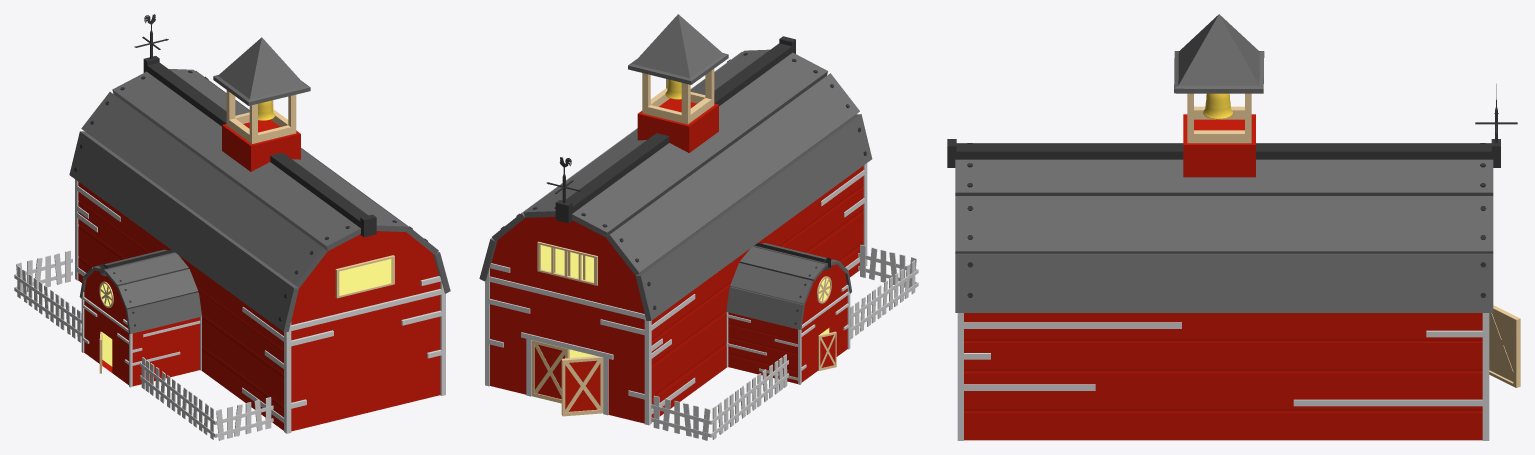
Rendered from farmhouse.glb.
3 views of the same model, side by side, from view 1: azimuth 30°, elevation 25°; view 2: azimuth 150°, elevation 25°; view 3: azimuth 270°, elevation 25° (orthographic). The views are drawn at different scales.
Visible parts, largest first — view 1: Cube, Cube.031, Cube.037, Cube.006, Cube.001, Cone, Cube.009, Cube.008, Cube.002, Cube.003, Cube.004; view 2: Cube, Cube.006, Cube.031, Cube.037, Cube.001, Cone, Cube.008, Cube.009, Cube.012, Cube.002, Cube.003, Cube.013 (+3 smaller); view 3: Cube, Cube.001, Cube.006, Cone, Cube.002, Cube.012, Cube.003, Circle.001.
Boxes of the visible parts, bbox=[...] form: Cube: bbox=[69, 69, 450, 431]; Cube.031: bbox=[84, 270, 199, 386]; Cube.037: bbox=[79, 249, 201, 333]; Cube.006: bbox=[75, 179, 445, 433]; Cube.001: bbox=[143, 56, 376, 237]; Cone: bbox=[213, 37, 310, 105]; Cube.009: bbox=[140, 357, 273, 440]; Cube.008: bbox=[14, 250, 81, 342]; Cube.002: bbox=[222, 119, 300, 171]; Cube.003: bbox=[226, 90, 296, 143]; Cube.004: bbox=[335, 255, 394, 298]; Cube: bbox=[479, 49, 872, 423]; Cube.006: bbox=[485, 163, 867, 425]; Cube.031: bbox=[728, 264, 847, 383]; Cube.037: bbox=[726, 243, 851, 329]; Cube.001: bbox=[555, 36, 795, 223]; Cone: bbox=[628, 14, 728, 84]; Cube.008: bbox=[651, 354, 788, 440]; Cube.009: bbox=[850, 244, 918, 339]; Cube.012: bbox=[561, 356, 603, 416]; Cube.002: bbox=[637, 98, 718, 152]; Cube.003: bbox=[642, 69, 714, 124]; Cube.013: bbox=[531, 340, 569, 403]; Cube: bbox=[955, 143, 1493, 440]; Cube.001: bbox=[947, 139, 1500, 167]; Cube.006: bbox=[957, 313, 1489, 440]; Cone: bbox=[1174, 14, 1264, 93]; Cube.002: bbox=[1183, 114, 1255, 177]; Cube.012: bbox=[1489, 305, 1520, 387]; Cube.003: bbox=[1187, 93, 1251, 143]; Circle.001: bbox=[1203, 93, 1233, 119].
Bounding box in the file's own units: 6.85 × 8.22 × 11.21.
